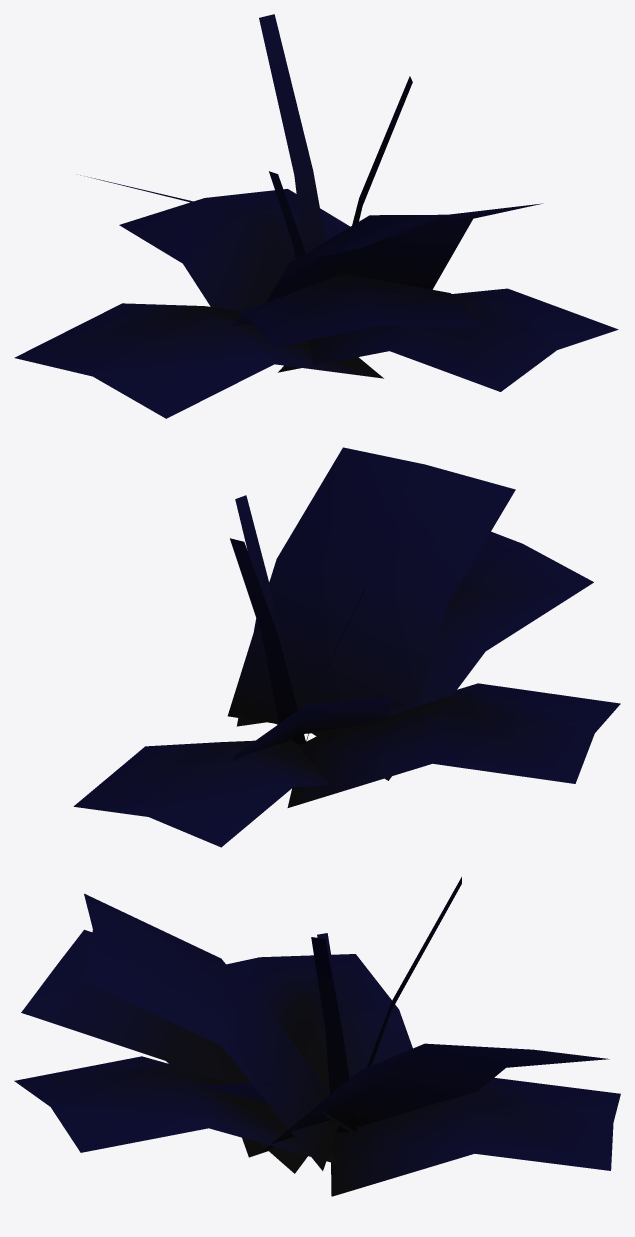
File: SM_Grass_Sprout_01.fbx
3 views of the same model, one above another, from view 1: azimuth 30°, elevation 25°; view 2: azimuth 150°, elevation 25°; view 3: azimuth 270°, elevation 25° (orthographic). The views are drawn at different scales.
Visible parts, largest first — view 1: SM_Grass_Sprout_01; view 2: SM_Grass_Sprout_01; view 3: SM_Grass_Sprout_01.
Boxes of the visible parts, box(x1,y1,x2,y2) form: SM_Grass_Sprout_01: box(14, 14, 618, 418); SM_Grass_Sprout_01: box(73, 447, 620, 847); SM_Grass_Sprout_01: box(14, 877, 620, 1196).
Bounding box in the file's own units: 50.07 × 47.55 × 24.72.
